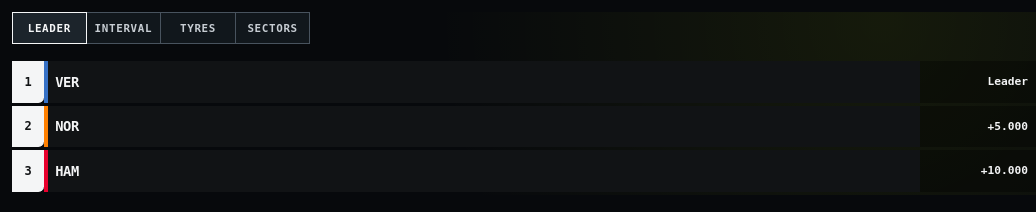
Test: renders all four causal sector colour states with accessible labels and formatted times
This screenshot has width=1036, height=212.
Click the button "Sectors".
click(273, 28)  # box top-left (236, 12), bottom-right (310, 44)
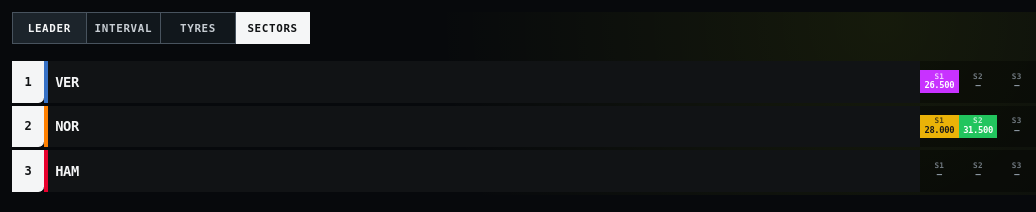
Check: the element with class "live-leaderboard__sector" shows "S1", box top-left (934, 72), bottom-right (944, 81)
Check: the element with class "live-leaderboard__sector" shows "26.500", box top-left (924, 80), bottom-right (954, 90)
Check: the element with class "live-leaderboard__sector" shows "28.000", box top-left (924, 125), bottom-right (954, 135)
